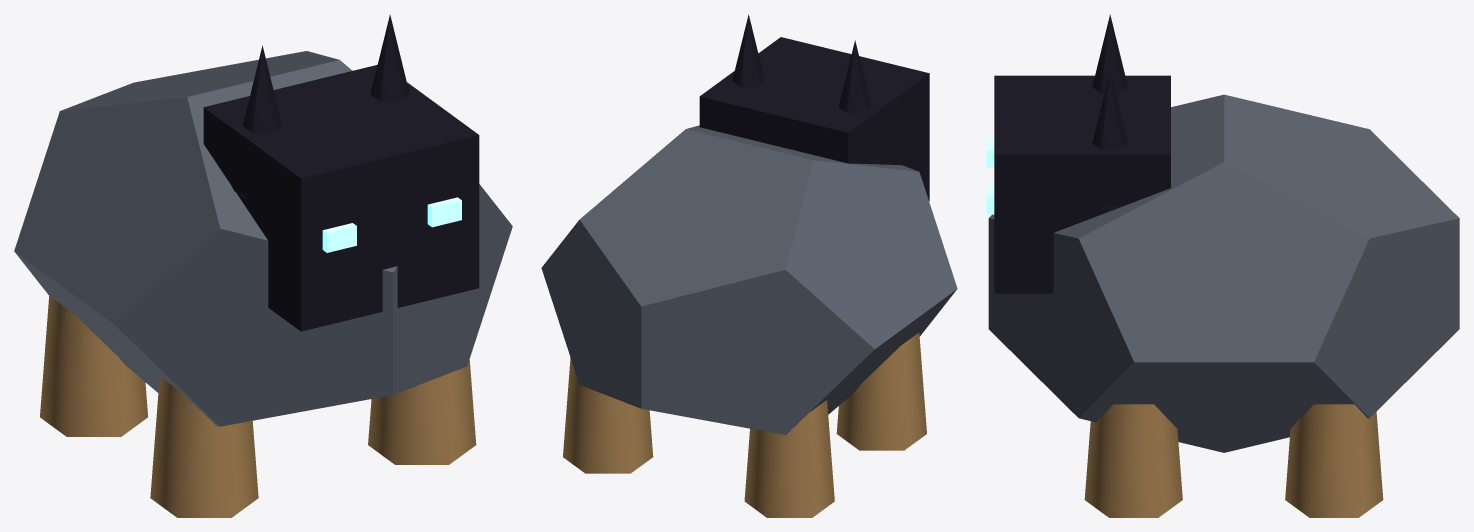
The model's file is taotie.glb.
3 views of the same model, side by side, from view 1: azimuth 30°, elevation 25°; view 2: azimuth 150°, elevation 25°; view 3: azimuth 270°, elevation 25° (orthographic). The views are drawn at different scales.
Visible parts, largest first — view 1: body, head, leg_1, leg_3, leg_0, horn_r, horn_l, eye_l, eye_r; view 2: body, head, leg_3, leg_1, leg_2, horn_r, horn_l; view 3: body, head, leg_2, leg_0, horn_l, horn_r.
Part boxes in pixels (x1,y1,x2,y2): body: (14, 51, 512, 426); head: (203, 65, 479, 331); leg_1: (150, 376, 258, 517); leg_3: (40, 296, 147, 436); leg_0: (368, 359, 476, 464); horn_r: (230, 45, 281, 199); horn_l: (370, 14, 409, 101); eye_l: (427, 197, 461, 227); eye_r: (322, 223, 356, 252); body: (541, 125, 957, 434); head: (699, 37, 929, 201); leg_3: (744, 400, 834, 517); leg_1: (836, 332, 926, 450); leg_2: (563, 357, 653, 473); horn_r: (839, 40, 883, 164); horn_l: (732, 14, 764, 87); body: (988, 94, 1459, 452); head: (994, 75, 1170, 293); leg_2: (1285, 404, 1383, 517); leg_0: (1084, 404, 1182, 517); horn_l: (1092, 71, 1127, 210); horn_r: (1092, 14, 1127, 93).
Size of the model in its own units: 2.13 by 2.3 by 2.41.
